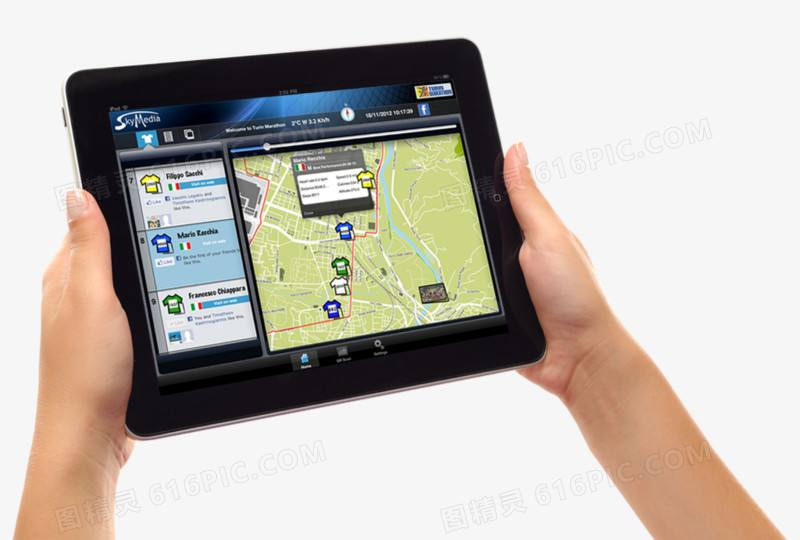pad: (43, 33, 649, 451)
